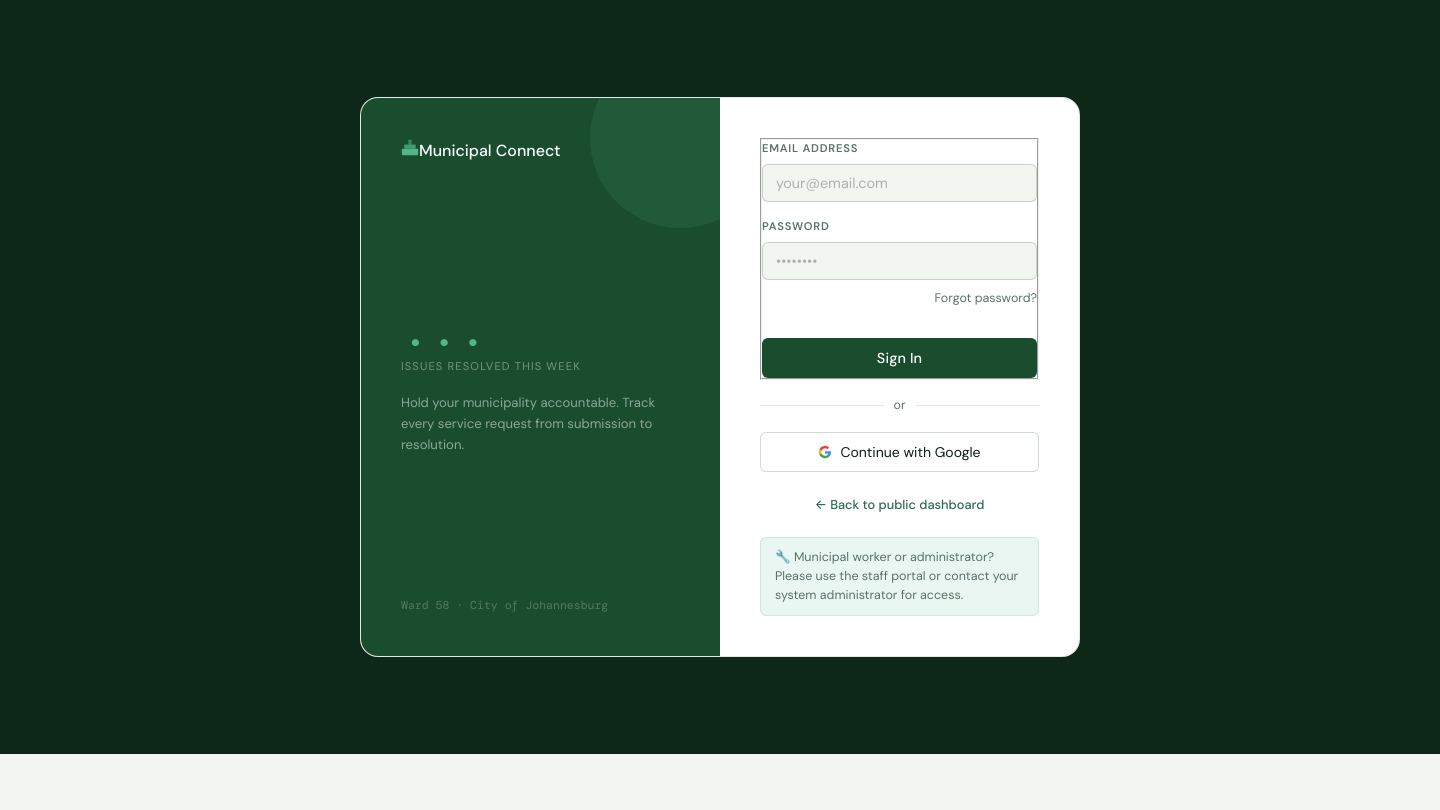
SignInPage › shows login error message
Type "bad@test.com" into the field labelled "Email Address" at (900, 183), box 762,164 -> 1037,202
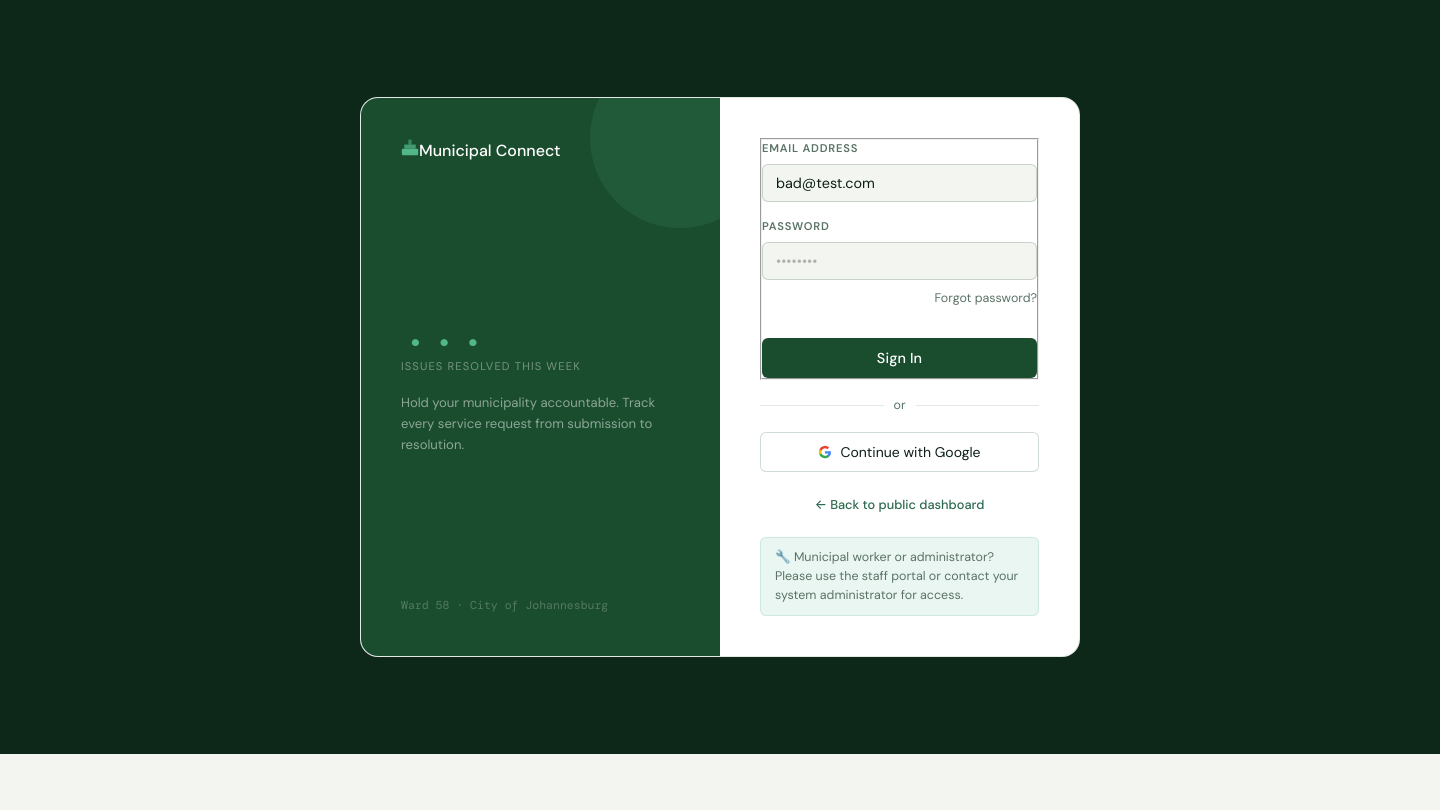
Type "wrongpass" into the password field labelled "Password" at (900, 261), box 762,242 -> 1037,280
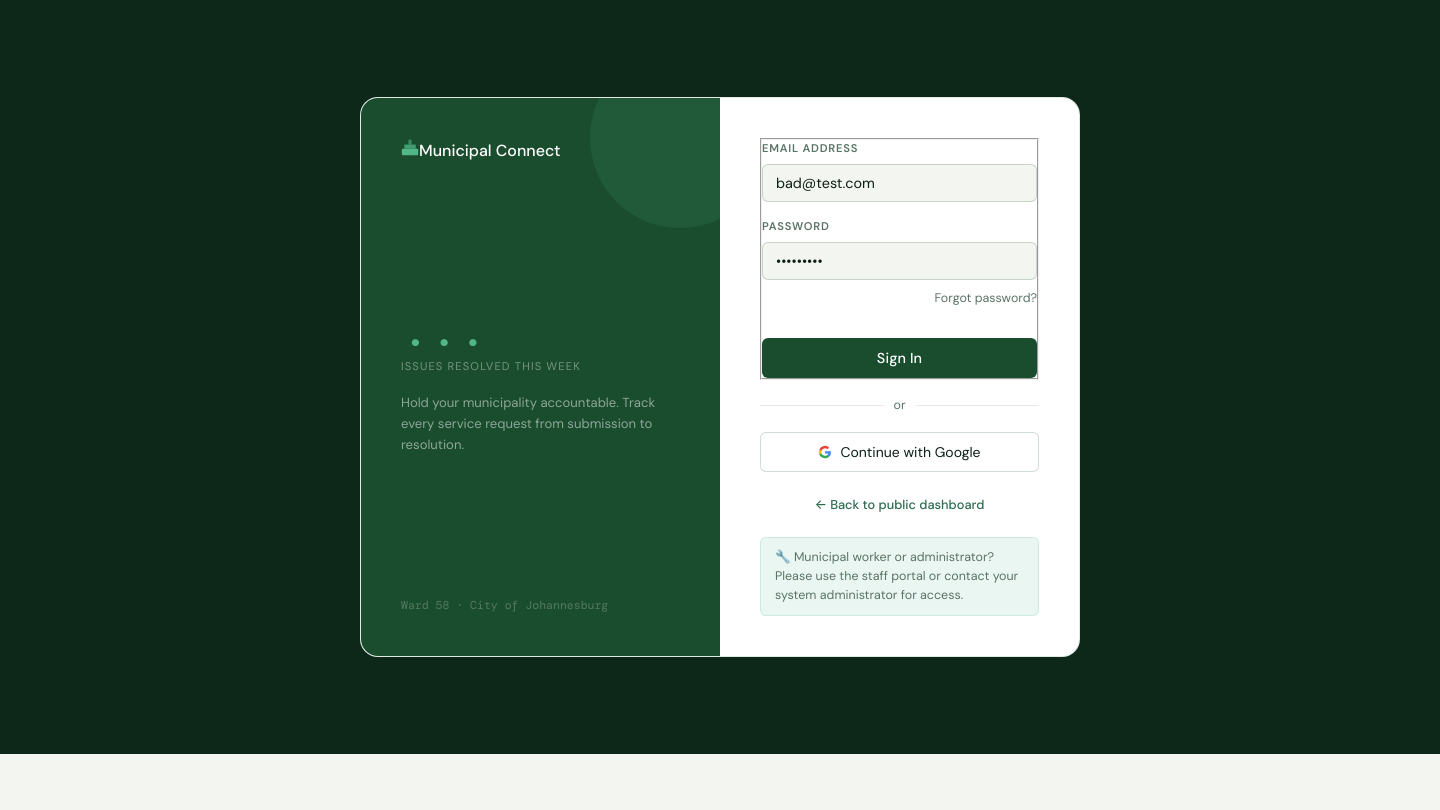
Click the button "Sign In" at (900, 358), box 762,338 -> 1037,378
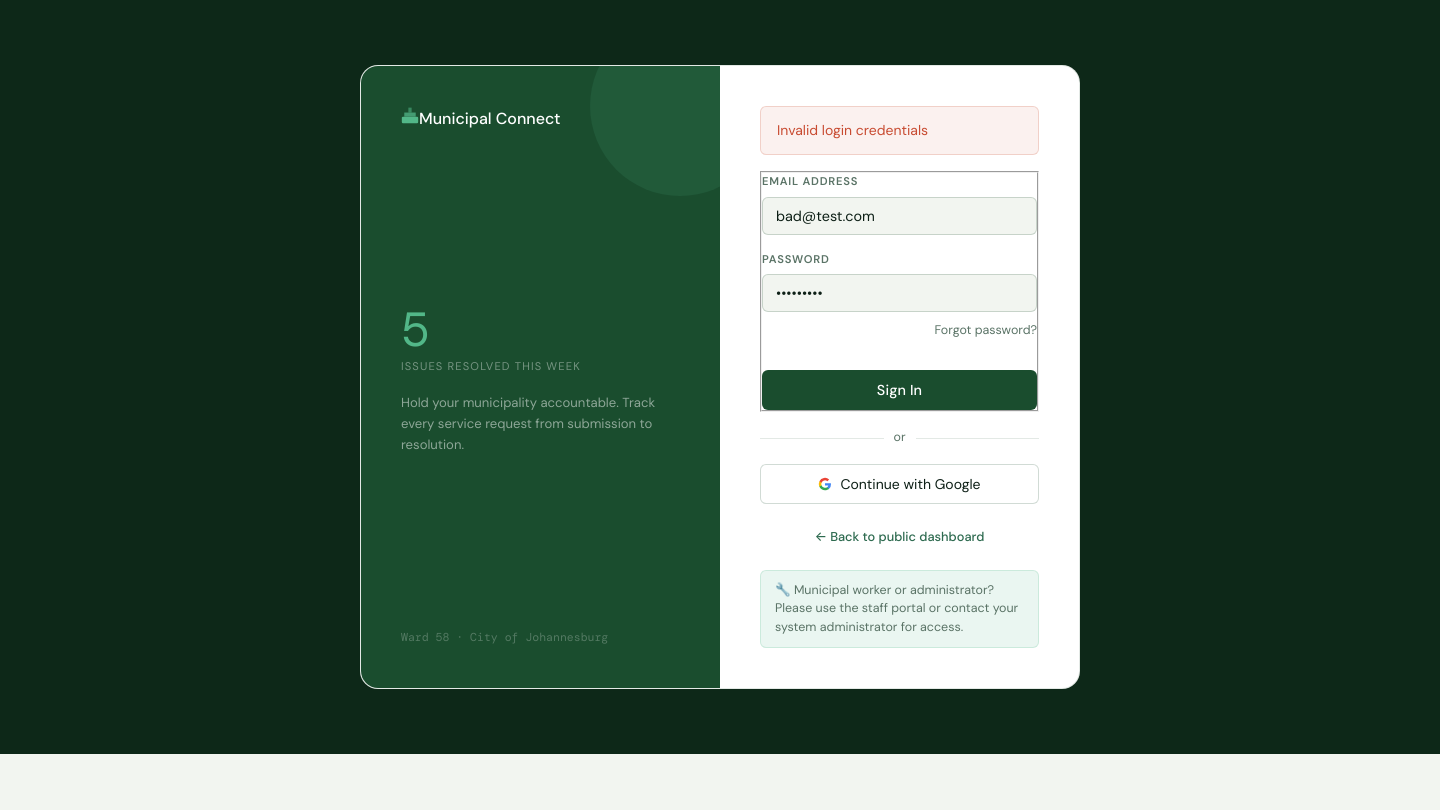
Expected: the text "Invalid login credentials" is shown, 760,106 -> 1039,155
